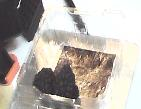berry: (54, 64, 78, 98), (33, 68, 54, 93)
